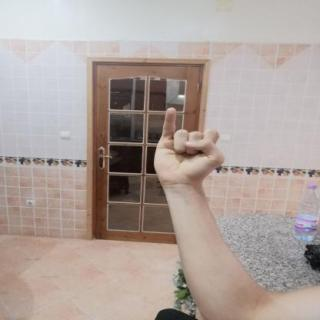MEEM: (142, 101, 233, 194)
